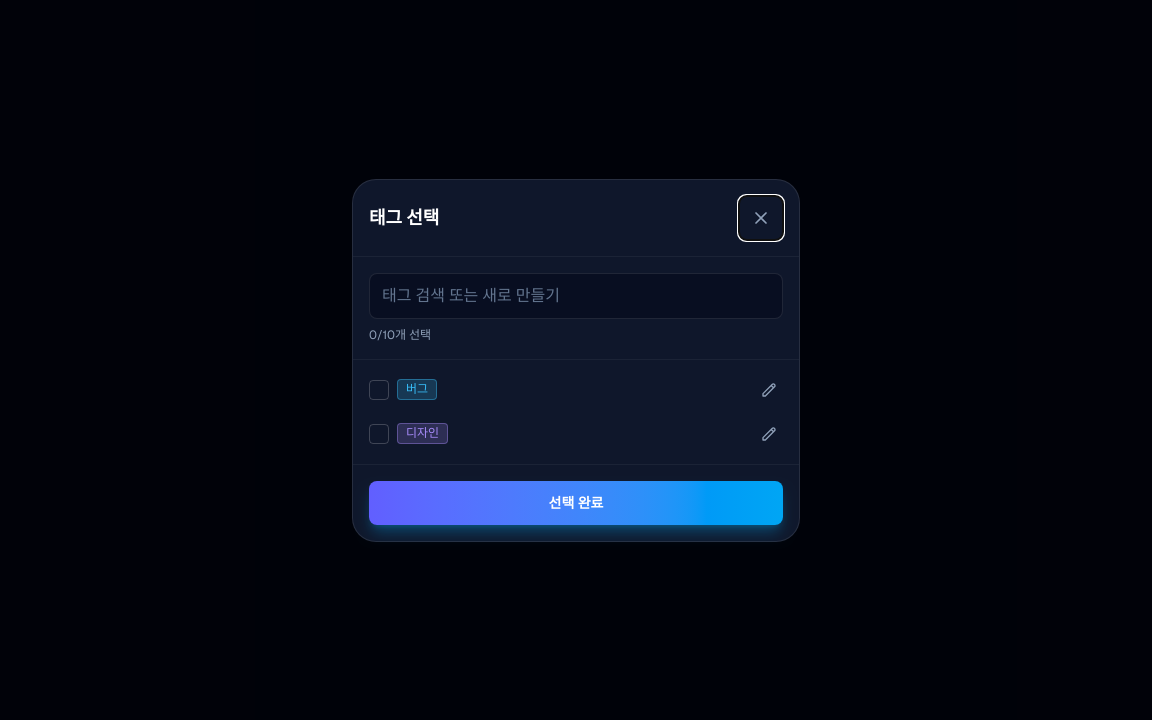
Test case: TagModal — 저장하지 않은 변경 › 변경이 있을 때 다른 태그 편집으로 넘어가기 전에도 묻는다
Click the button named "버그 태그 수정".
click(769, 390)  # box [747, 368, 791, 412]
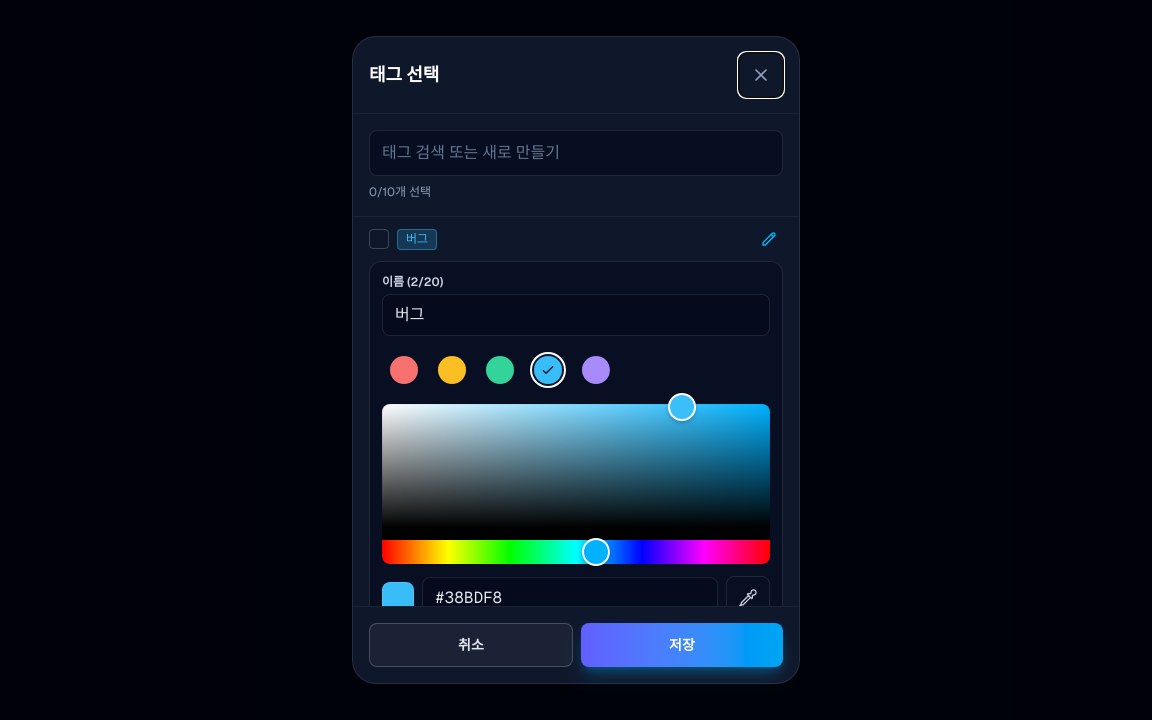
Click the button named "추천 색 #F87171".
click(404, 370)  # box [382, 348, 426, 392]
(page scrolled)
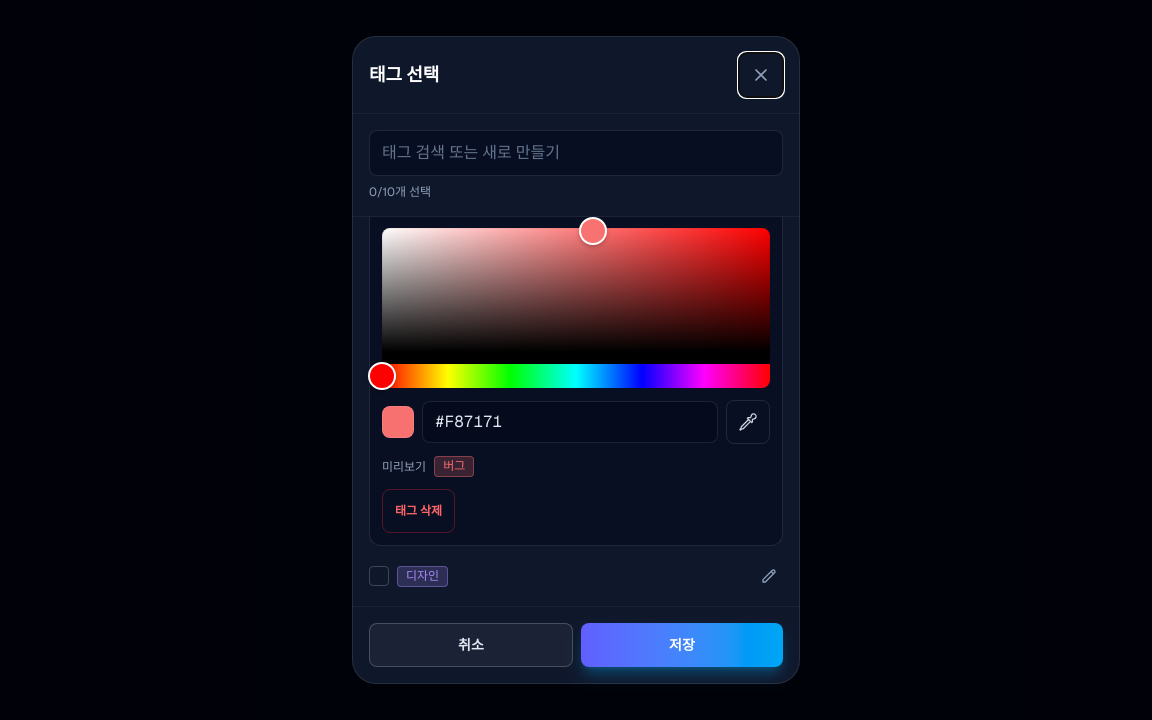
Click the button named "디자인 태그 수정".
click(769, 576)  # box [747, 554, 791, 598]
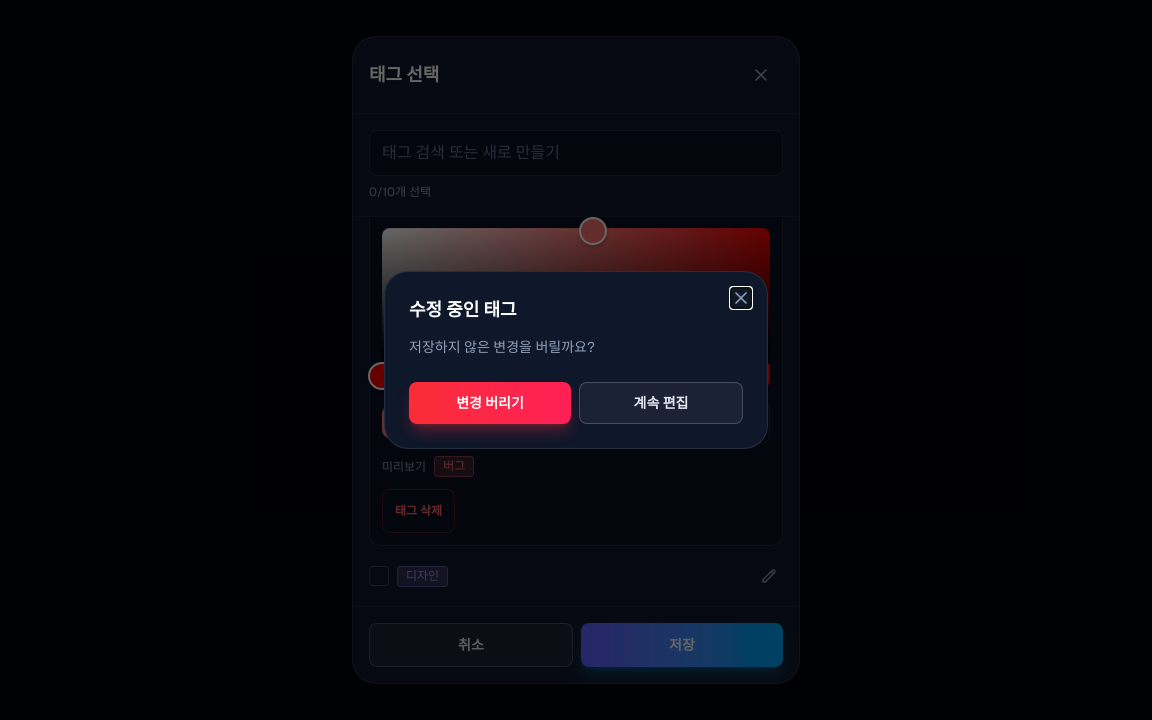
Expected: the dialog "수정 중인 태그" is shown, [384, 271, 768, 449]
Click the button "변경 버리기".
click(490, 403)  # box [409, 382, 571, 424]
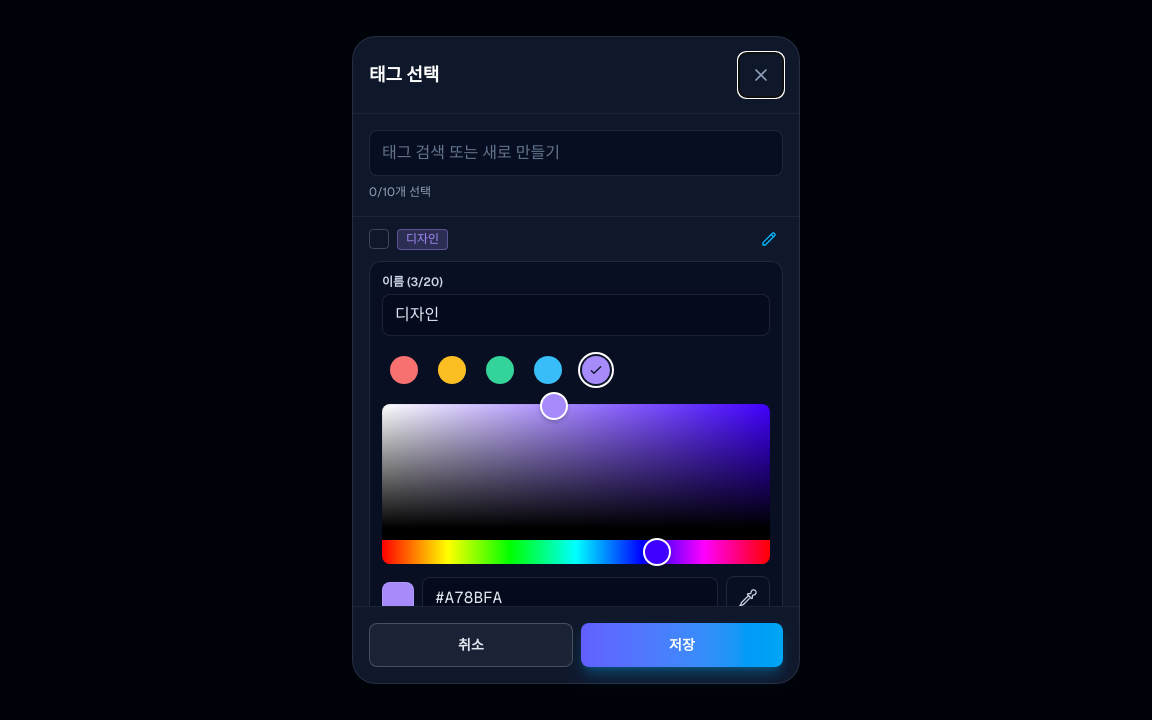
Expected: the button named "디자인 태그 수정" is expanded, [747, 217, 791, 261]
